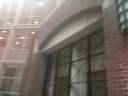window: (1, 0, 32, 96)
